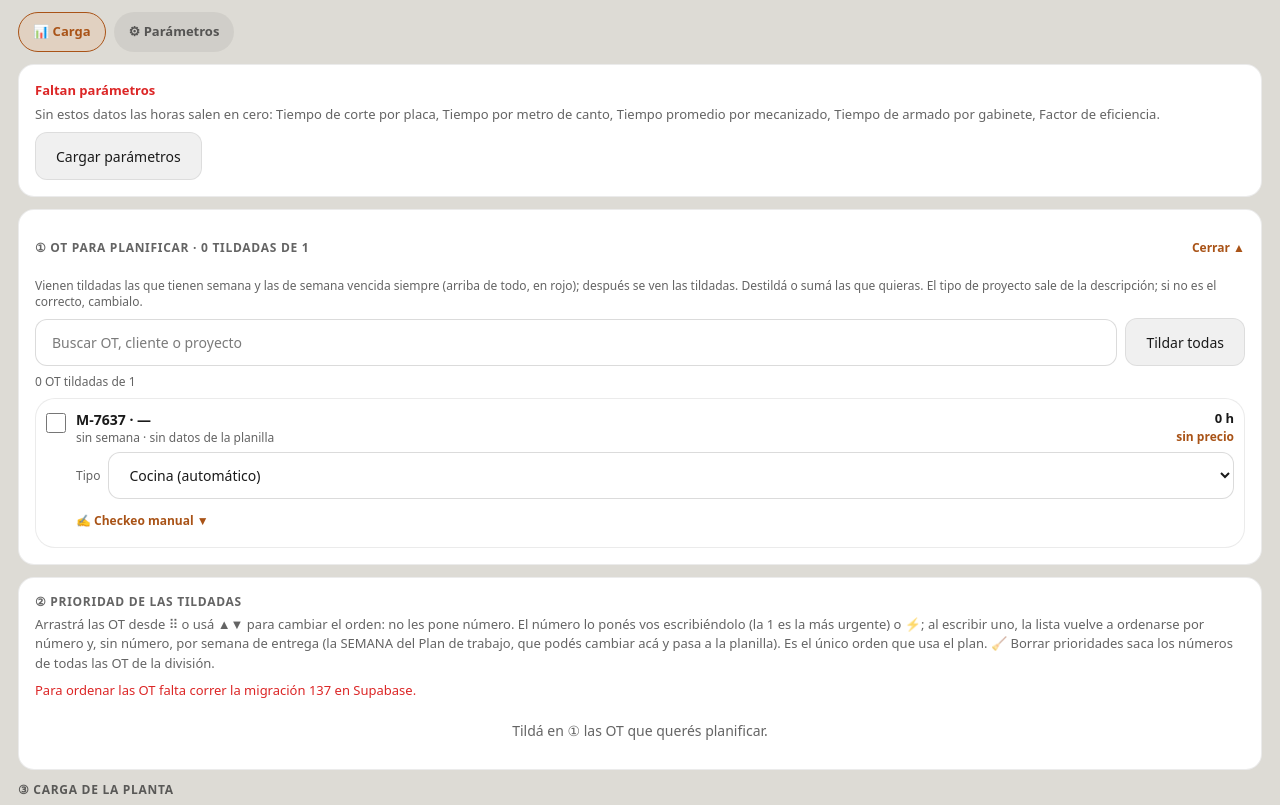
Test: 📊 Carga — sin la migración 139 avisa al cambiar el tipo
Step 1. Select "Rack TV / living" in the dropdown named "Tipo de proyecto de la OT M-7637" → coordinates (671, 476), box [108, 452, 1234, 499]
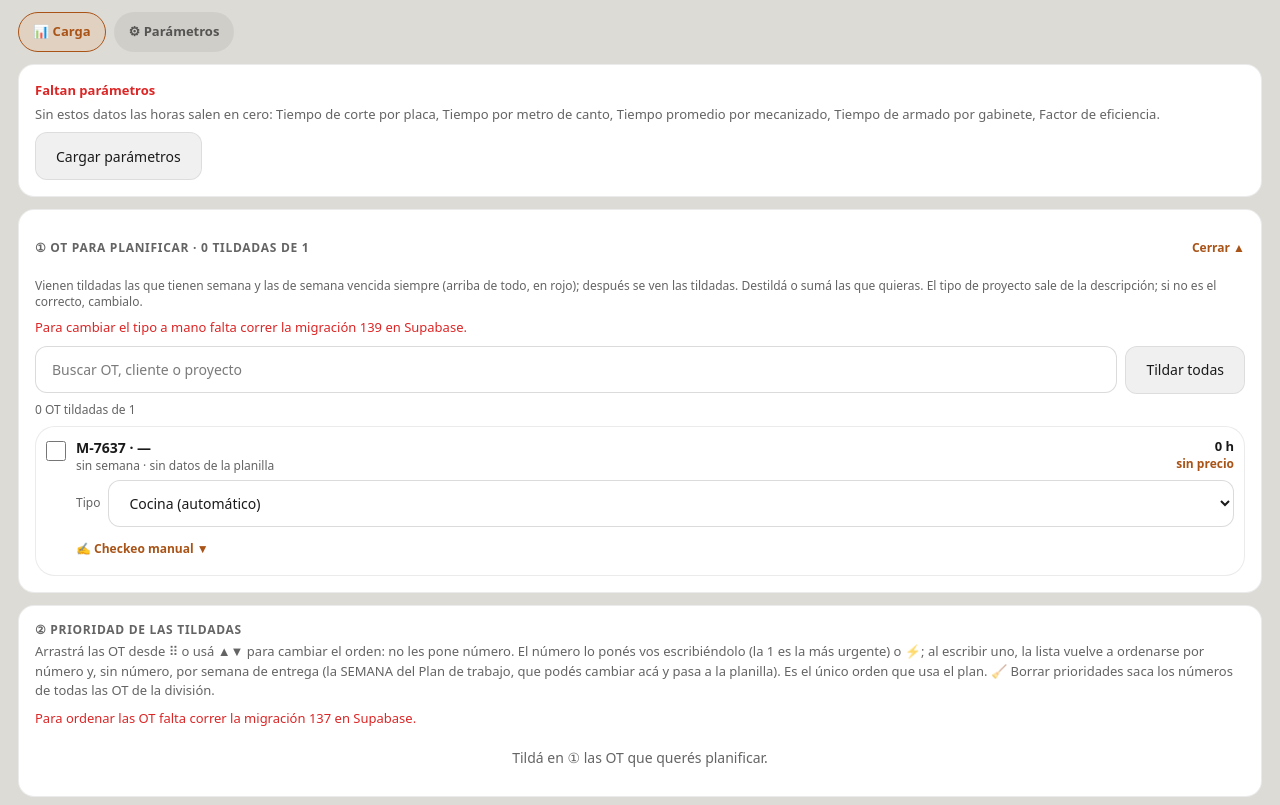
Now the text "Para cambiar el tipo a mano falta correr la migración 139 en Supabase." is shown, box [35, 318, 467, 336]
